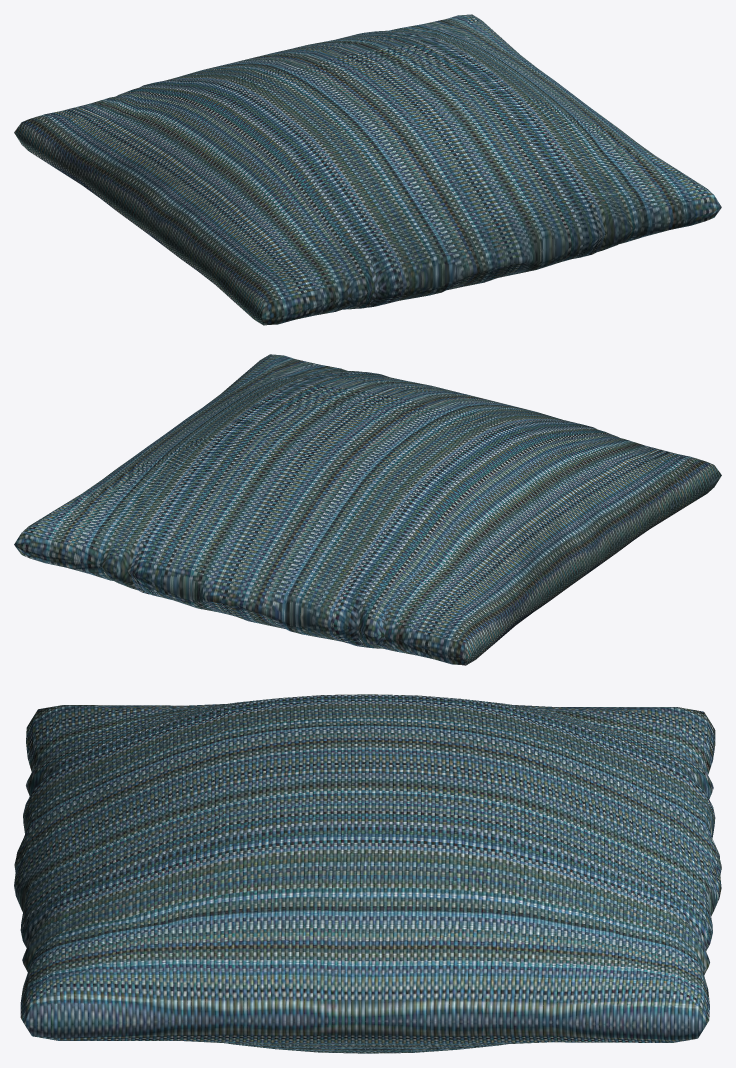
Rendered from pillow_1.fbx.
3 renders of one model, top to bottom at view 1: azimuth 30°, elevation 25°; view 2: azimuth 150°, elevation 25°; view 3: azimuth 270°, elevation 25°, orthographic. The views are drawn at different scales.
Visible parts, largest first — view 1: group_1; view 2: group_1; view 3: group_1.
Part boxes in pixels (<box>): group_1: <box>14,14,721,325</box>; group_1: <box>14,354,721,665</box>; group_1: <box>14,694,721,1053</box>.
Bounding box in the file's own units: 42.14 × 15.6 × 41.08.
1 material, 1 textured.
